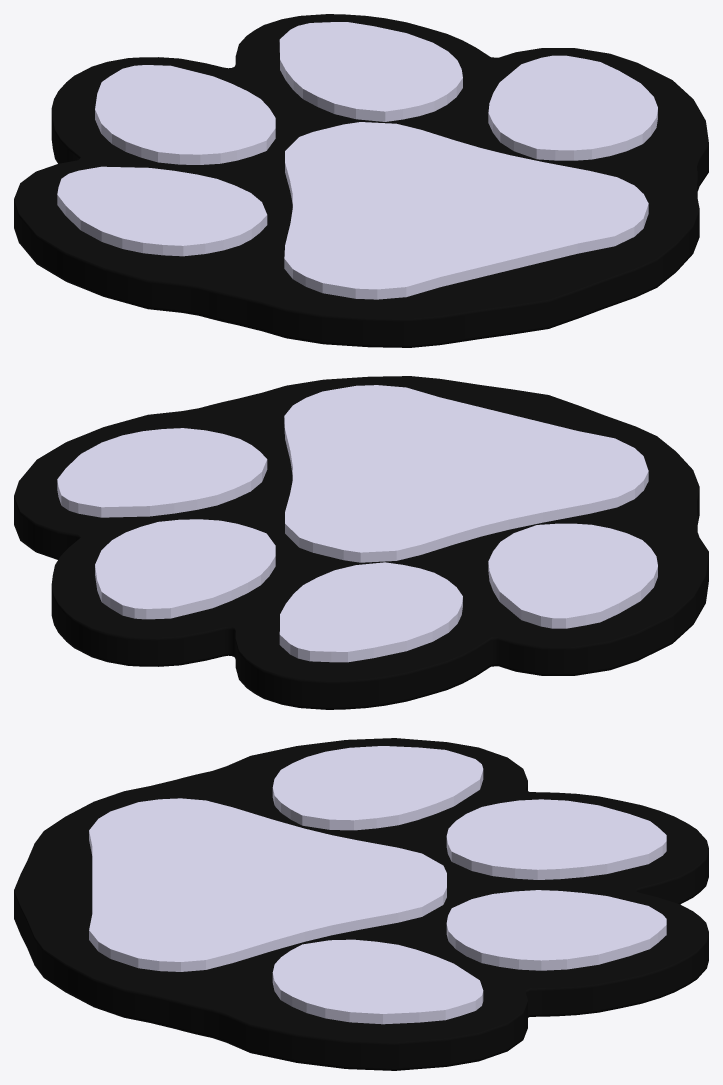
The model's file is Black_Paw.fbx.
3 views of the same model, one above another, from view 1: azimuth 30°, elevation 25°; view 2: azimuth 150°, elevation 25°; view 3: azimuth 270°, elevation 25° (orthographic).
Visible parts, largest first — view 1: Base_Paw.041; view 2: Base_Paw.041; view 3: Base_Paw.041.
Part boxes in pixels (x1,y1,x2,y2): Base_Paw.041: (14, 14, 708, 347); Base_Paw.041: (14, 376, 708, 709); Base_Paw.041: (14, 738, 708, 1070).
Bounding box in the file's own units: 180 × 10.74 × 174.
